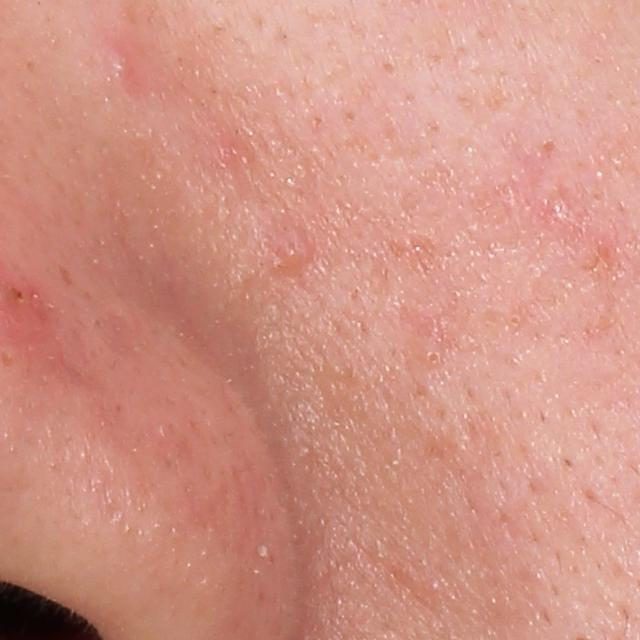comedo: (419, 345, 446, 371), (507, 312, 525, 330)
papule: (100, 41, 141, 94)
